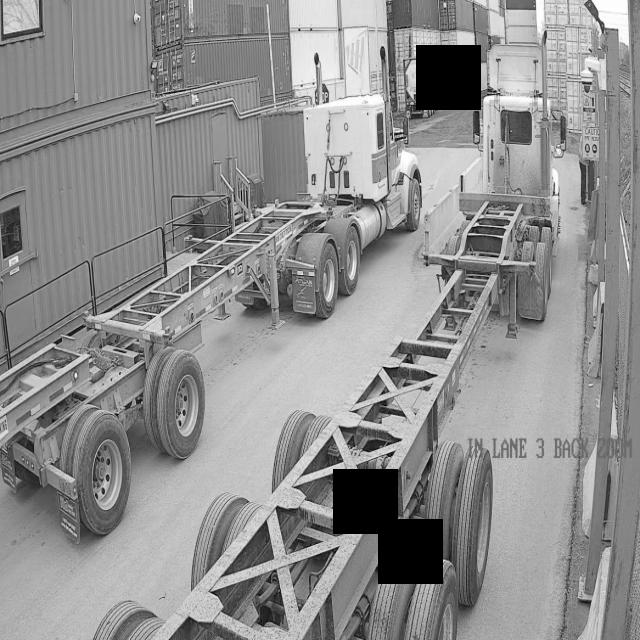truck_without_container: (93, 43, 560, 640), (0, 93, 422, 541)
